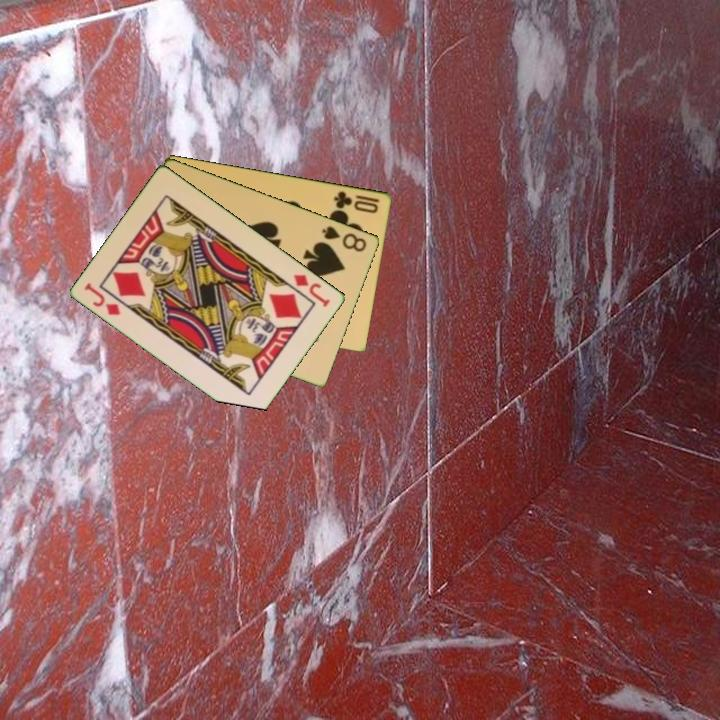10c: (330, 187, 382, 216)
8s: (318, 222, 370, 255)
Jd: (290, 270, 333, 310), (81, 279, 124, 318)
